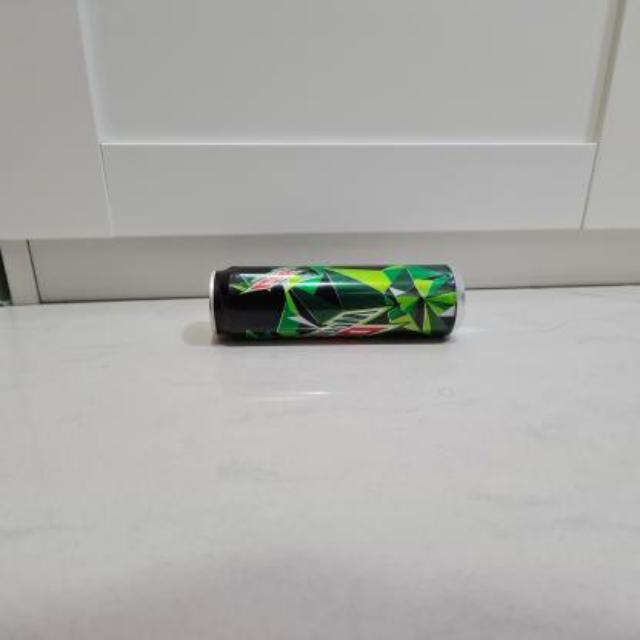metal: (212, 263, 465, 335)
